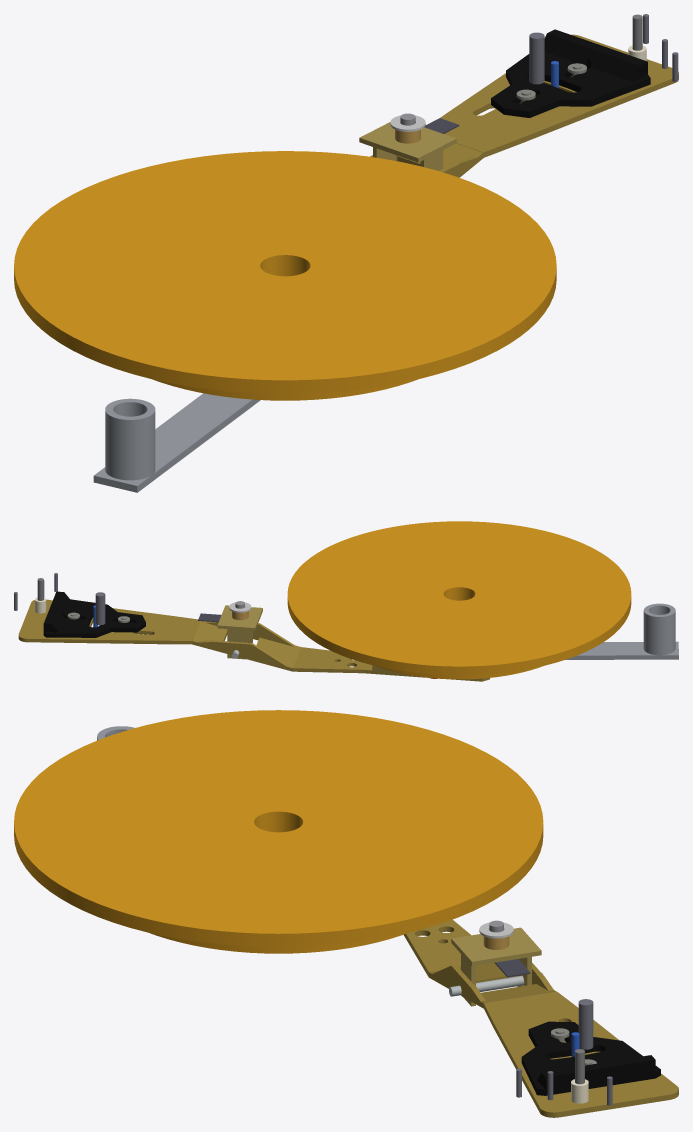
The model's file is cycle.glb.
3 views of the same model, one above another, from view 1: azimuth 30°, elevation 25°; view 2: azimuth 150°, elevation 25°; view 3: azimuth 270°, elevation 25° (orthographic). The views are drawn at different scales.
Parts seen in each view (by area): view 1: 165_cam_envelope_tracks_unresolved, 171_bridge_datum_skeleton, 243_balance_plate, 184_main_lever, 215_bearing_block, ctx_206_snapshot_local_estimate_superseded; view 2: 165_cam_envelope_tracks_unresolved, 184_main_lever, 171_bridge_datum_skeleton, 243_balance_plate, 215_bearing_block, ctx_206_snapshot_local_estimate_superseded; view 3: 165_cam_envelope_tracks_unresolved, 184_main_lever, 243_balance_plate, 215_bearing_block, ctx_206_snapshot_local_estimate_superseded, 183_axle.
Part boxes in pixels (left/top/right/bottom): 165_cam_envelope_tracks_unresolved: left=14, top=151, right=556, bottom=400; 171_bridge_datum_skeleton: left=93, top=393, right=260, bottom=492; 243_balance_plate: left=491, top=29, right=650, bottom=117; 184_main_lever: left=370, top=34, right=678, bottom=177; 215_bearing_block: left=359, top=122, right=456, bottom=170; ctx_206_snapshot_local_estimate_superseded: left=529, top=32, right=544, bottom=84; 165_cam_envelope_tracks_unresolved: left=287, top=521, right=631, bottom=679; 184_main_lever: left=18, top=599, right=489, bottom=681; 171_bridge_datum_skeleton: left=565, top=603, right=678, bottom=659; 243_balance_plate: left=43, top=591, right=145, bottom=637; 215_bearing_block: left=217, top=605, right=262, bottom=659; ctx_206_snapshot_local_estimate_superseded: left=95, top=592, right=105, bottom=625; 165_cam_envelope_tracks_unresolved: left=14, top=710, right=543, bottom=953; 184_main_lever: left=404, top=919, right=678, bottom=1117; 243_balance_plate: left=521, top=1021, right=660, bottom=1095; 215_bearing_block: left=451, top=927, right=541, bottom=1006; ctx_206_snapshot_local_estimate_superseded: left=578, top=999, right=593, bottom=1049; 183_axle: left=449, top=972, right=543, bottom=996.
Bounding box in the file's own units: 0.1843 × 0.024 × 0.1357.
